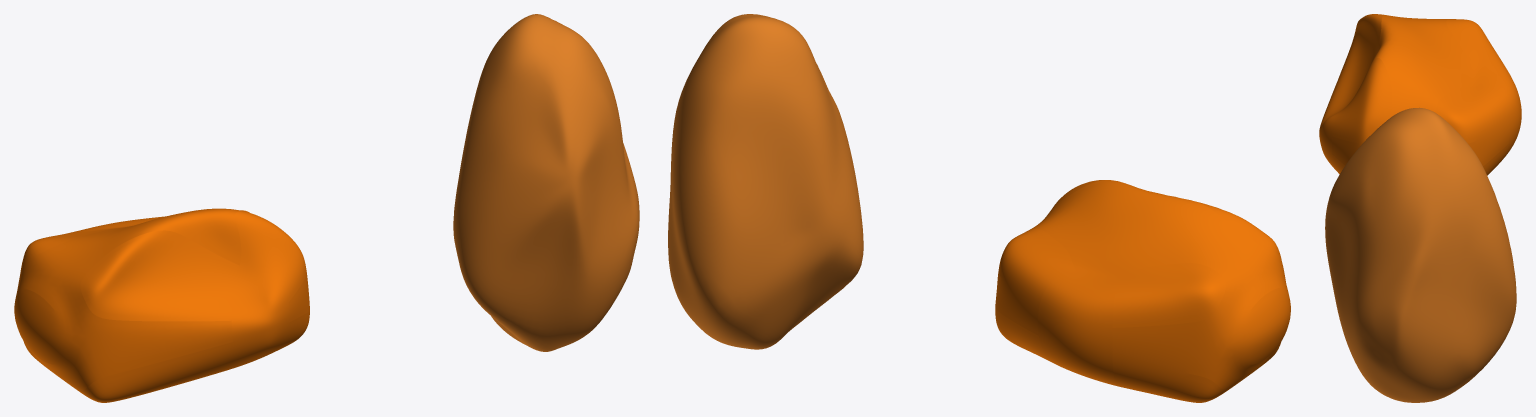
Rendered from Model_Prop_Stones.fbx.
3 renders of one model, left to right at view 1: azimuth 30°, elevation 25°; view 2: azimuth 150°, elevation 25°; view 3: azimuth 270°, elevation 25°, orthographic. The views are drawn at different scales.
Visible parts, largest first — view 1: Model_Prop_Stone_2, Model_Prop_Stone; view 2: Model_Prop_Stone_2, Model_Prop_Stone; view 3: Model_Prop_Stone_2, Model_Prop_Stone.
Boxes of the visible parts, x1,y1,x2,y2 form: Model_Prop_Stone_2: (453, 14, 639, 351); Model_Prop_Stone: (14, 208, 309, 402); Model_Prop_Stone_2: (668, 14, 863, 349); Model_Prop_Stone: (995, 180, 1290, 402); Model_Prop_Stone_2: (1325, 107, 1516, 402); Model_Prop_Stone: (1319, 14, 1521, 175).
Size of the model in its own units: 649 by 335 by 215.
